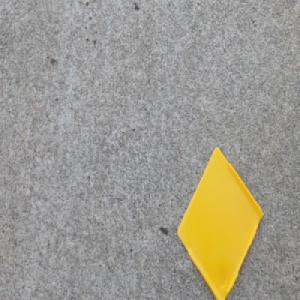PlasticPart: (176, 145, 264, 300)
